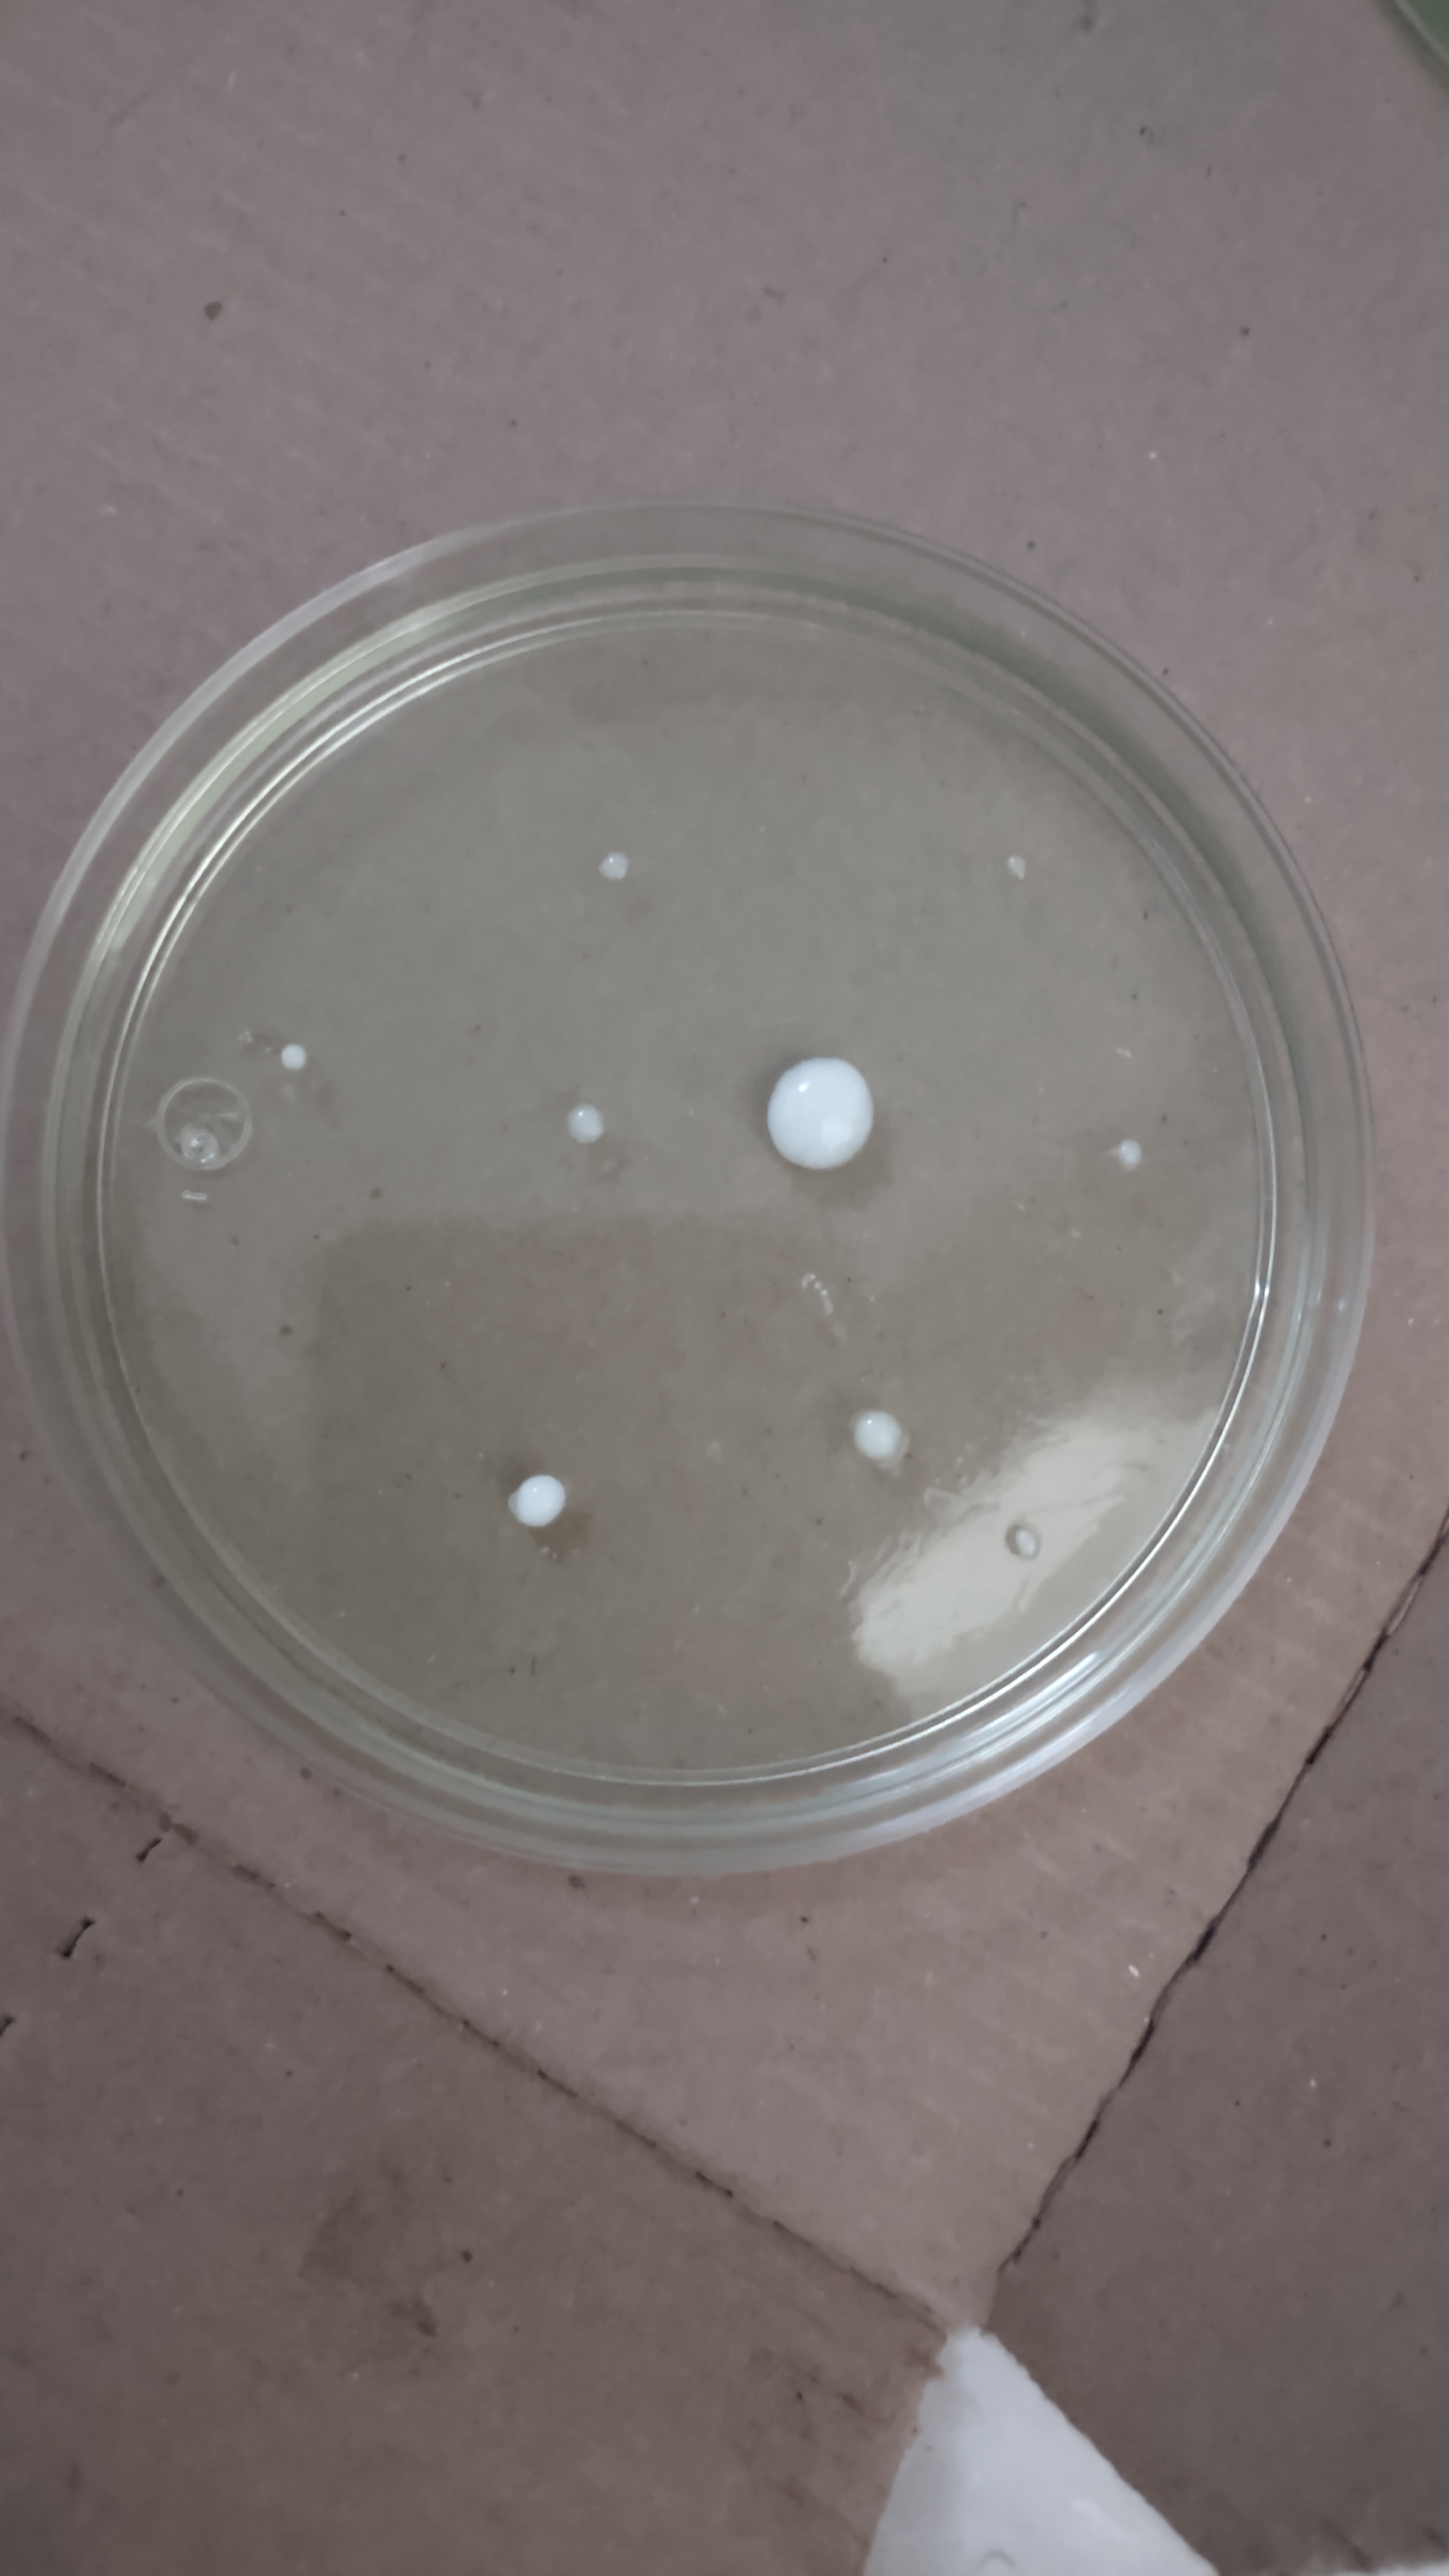Colonia: (763, 1040, 878, 1178), (506, 1458, 571, 1536), (844, 1403, 913, 1476), (563, 1100, 609, 1148), (278, 1035, 317, 1076), (596, 847, 635, 888), (1111, 1138, 1146, 1180), (1007, 1523, 1042, 1562), (1001, 853, 1028, 883)
